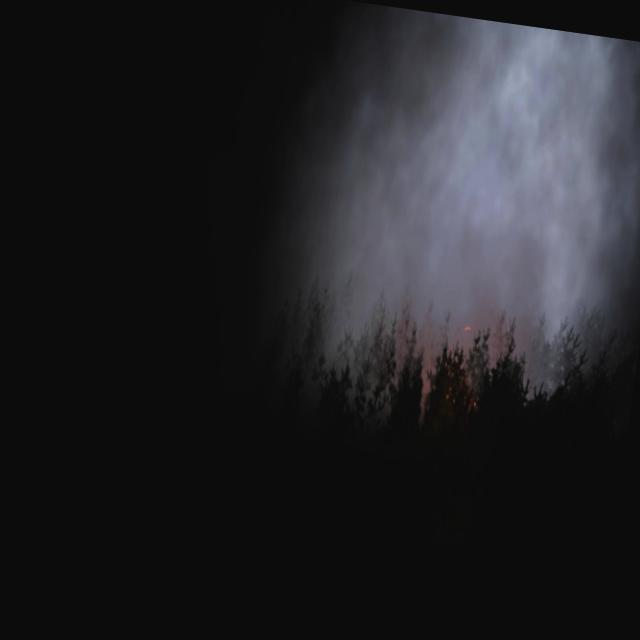smoke: (256, 0, 640, 447)
